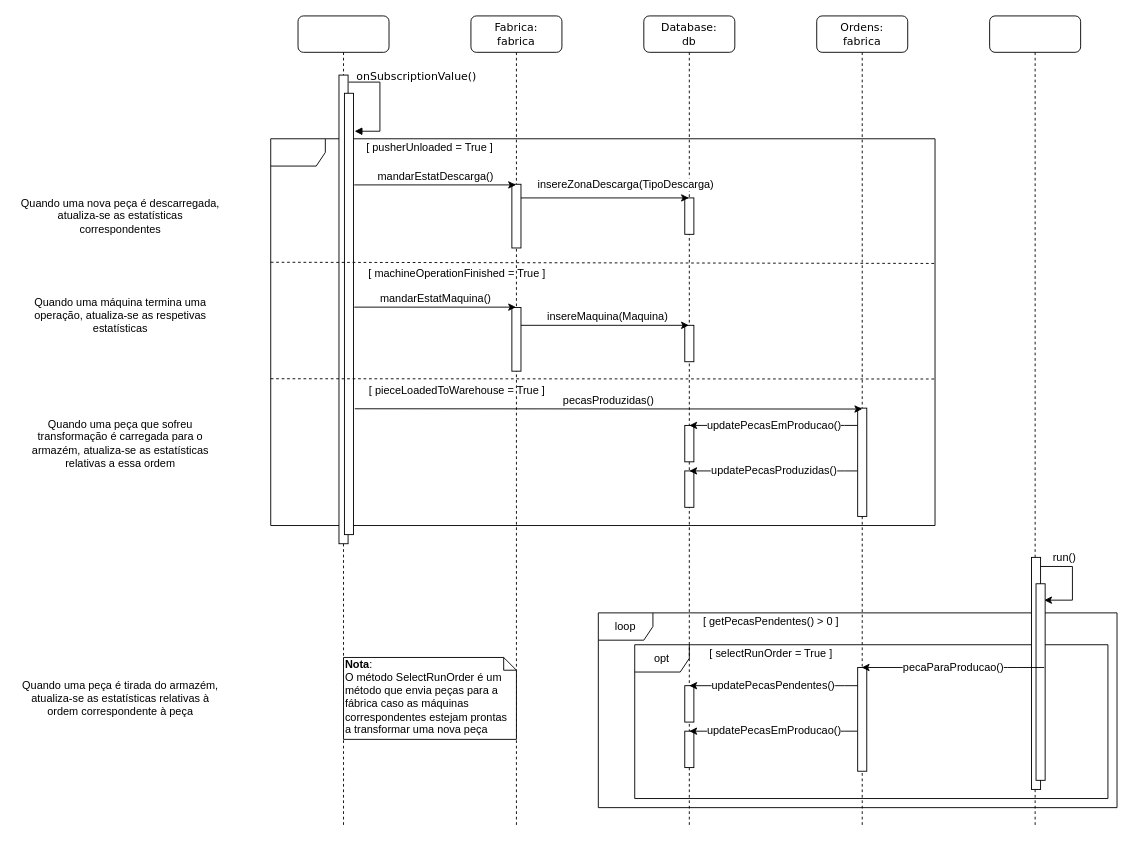
This 1133x842 diagram has some shape labels left out. The shapes that lost their labels are listed below. From the top down, each one's box as (x1, y1, x2, y2) in pixels, then its label:
(270, 138, 935, 526): alt
(297, 15, 389, 826): OpcClient: opc
(989, 15, 1081, 826): OrdensThread: fabrica
